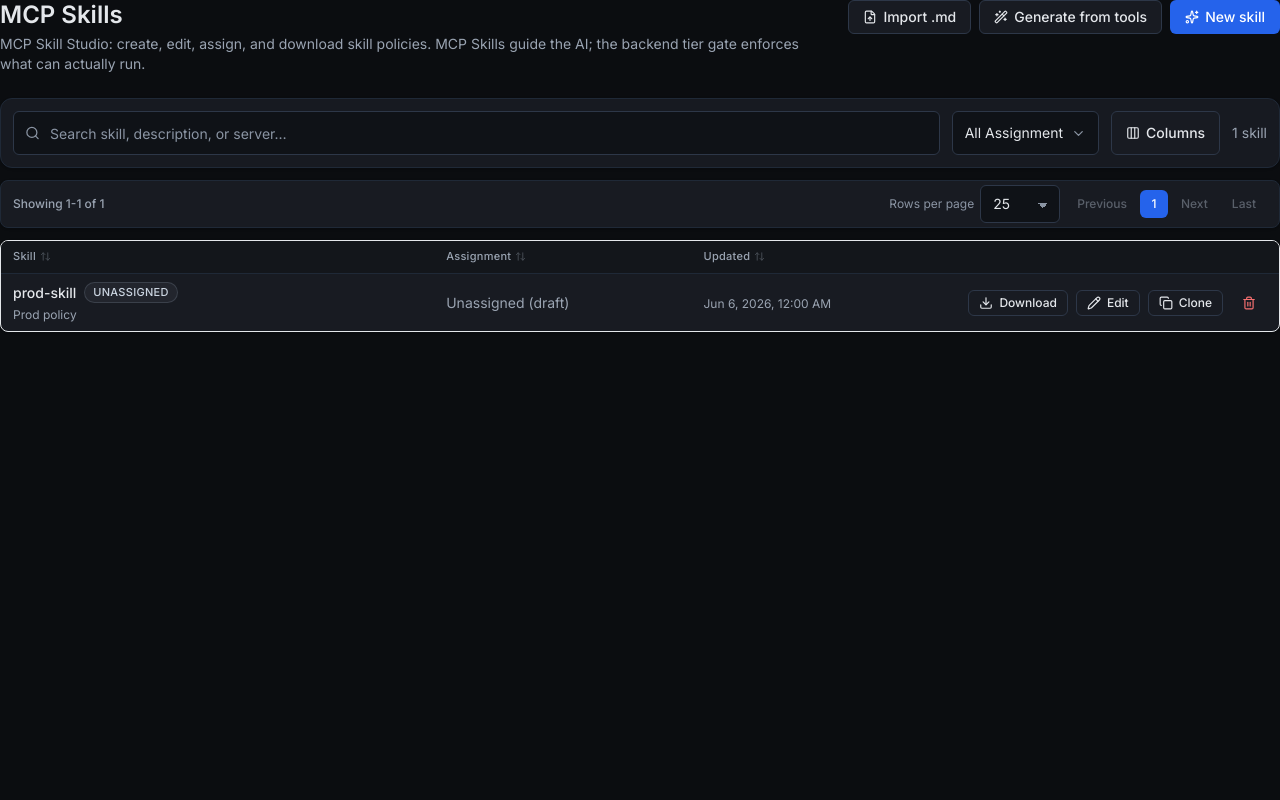
Test: MCP Skills page › warns about generic command tools + guide/enforce distinction in the editor
Click the button "New skill". click: (1225, 17)
box: [1170,0,1279,34]
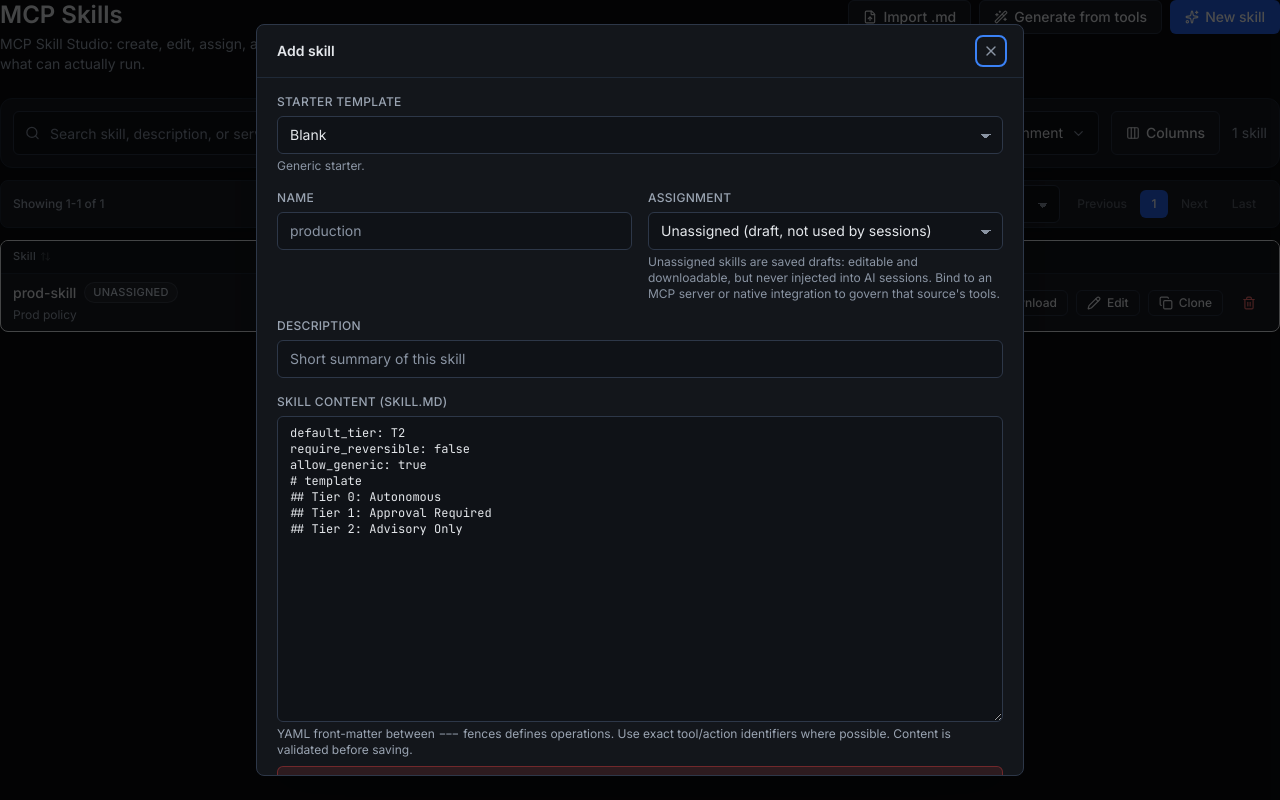
Expected: the text "backend tier gate enforces" is shown, [0,35,799,72]
Expected: the dropdown labelled "Assignment" is shown, [648,212,1003,250]
Expected: the text "exact tool/action identifiers" is shown, [460,726,890,741]
